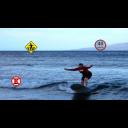speed_limit_40: (94, 39, 107, 51)
